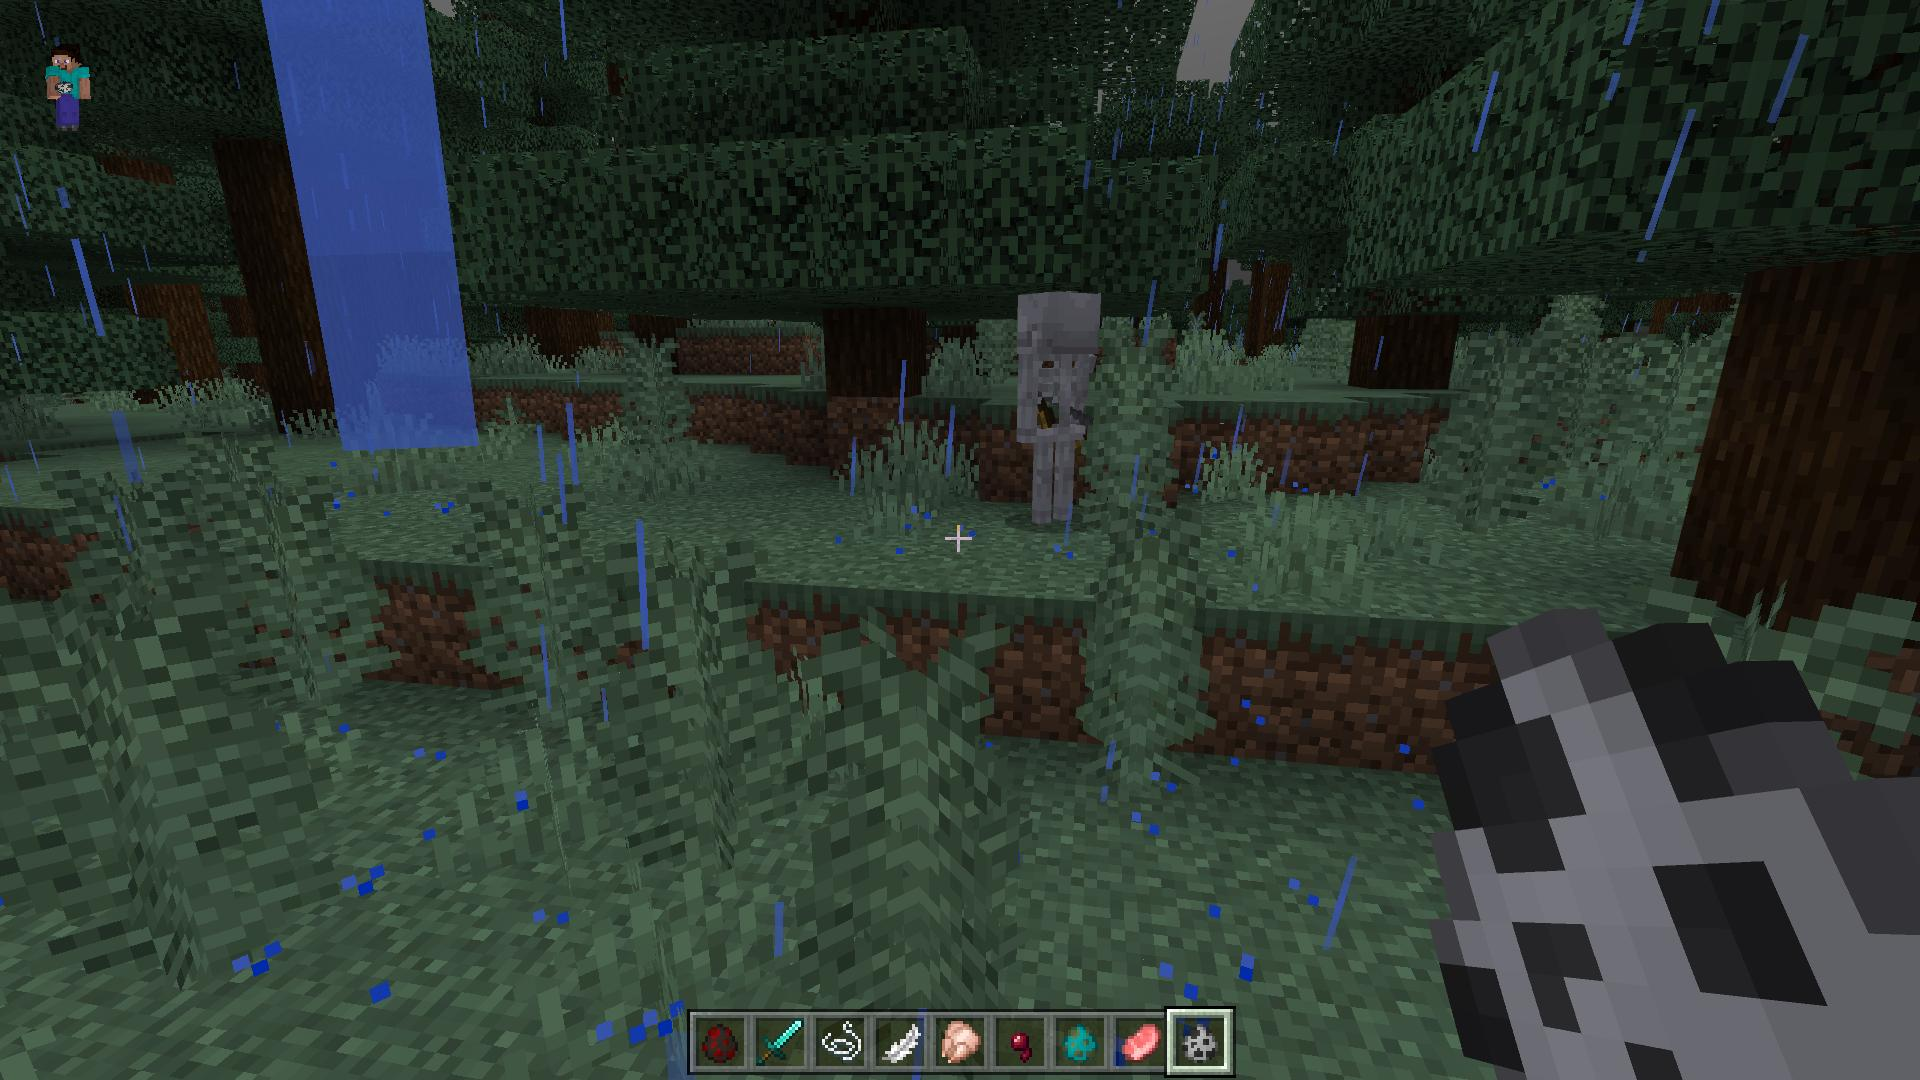skeleton: (1015, 280, 1105, 526)
